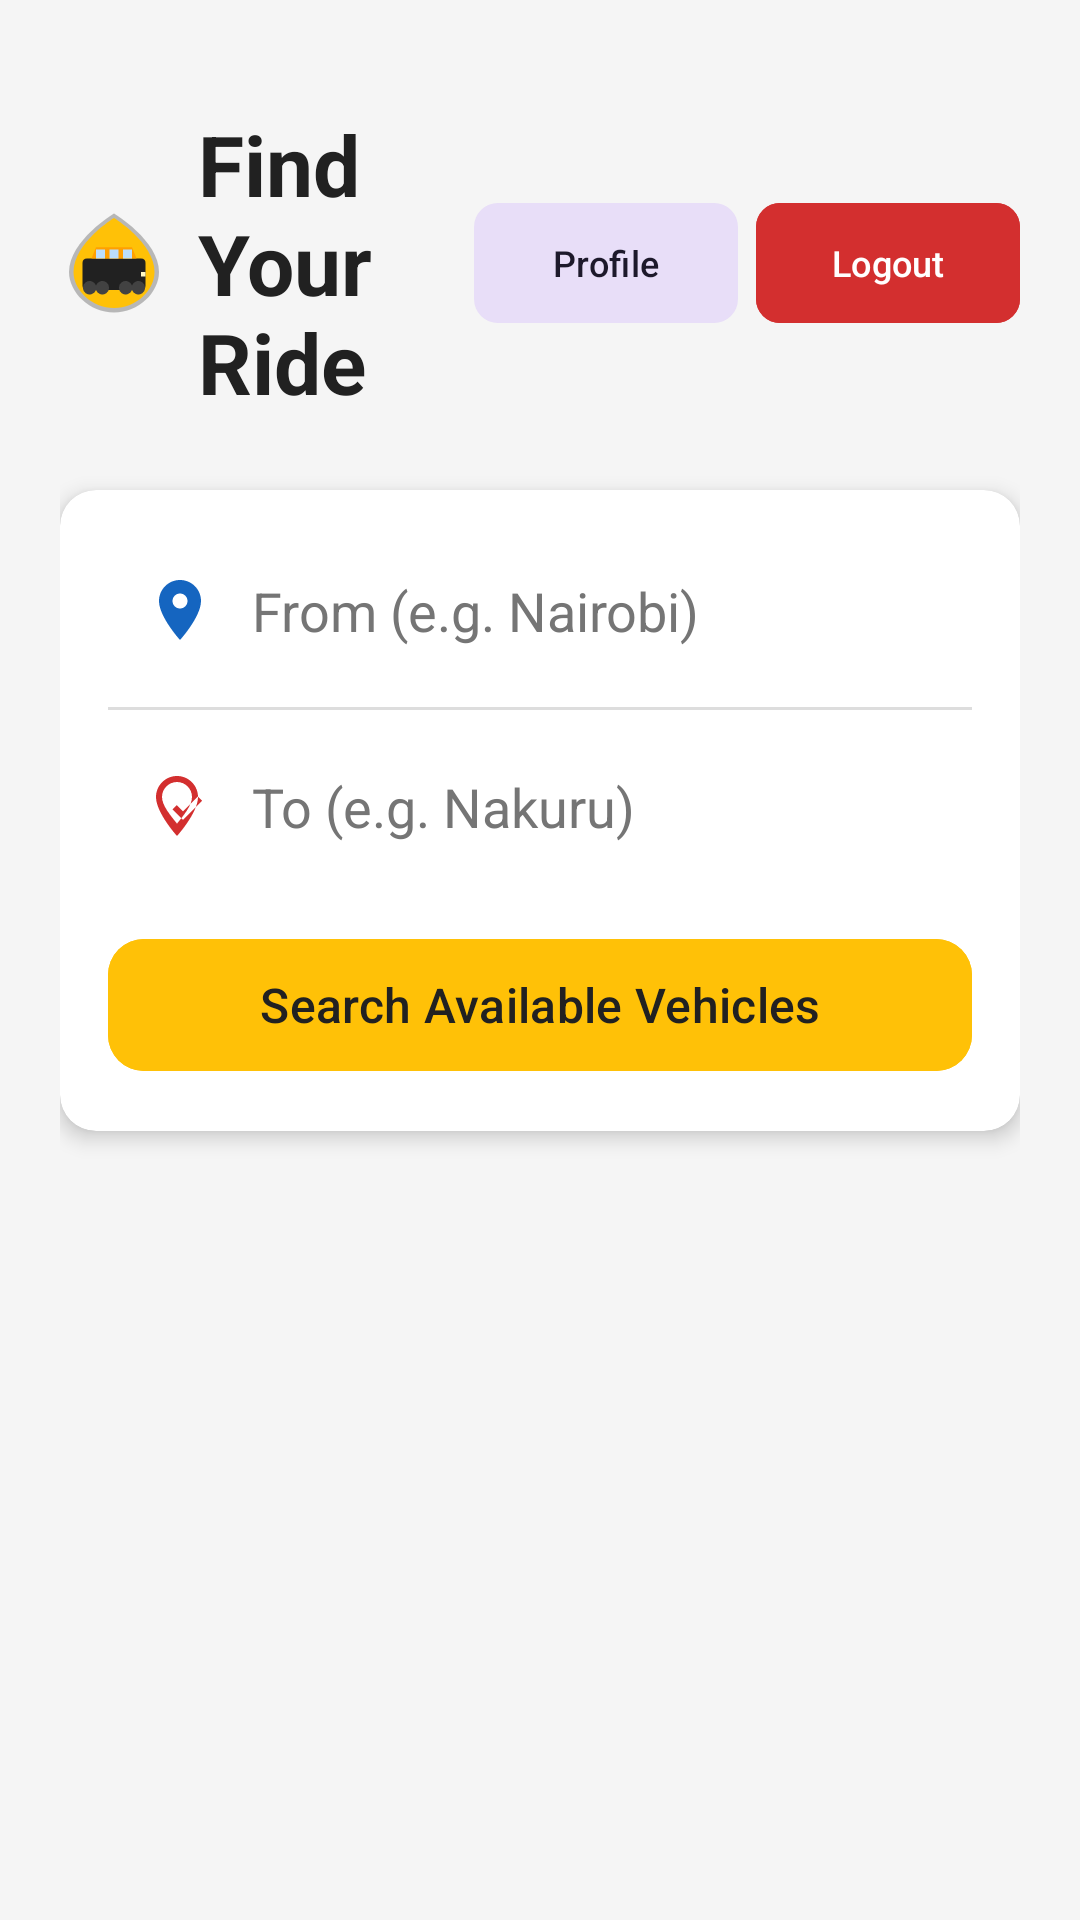

Where icons sit on this 1080px×1920px app screen, as [x1,y1,x2,y2]:
Matatu: [69,214,159,313]
